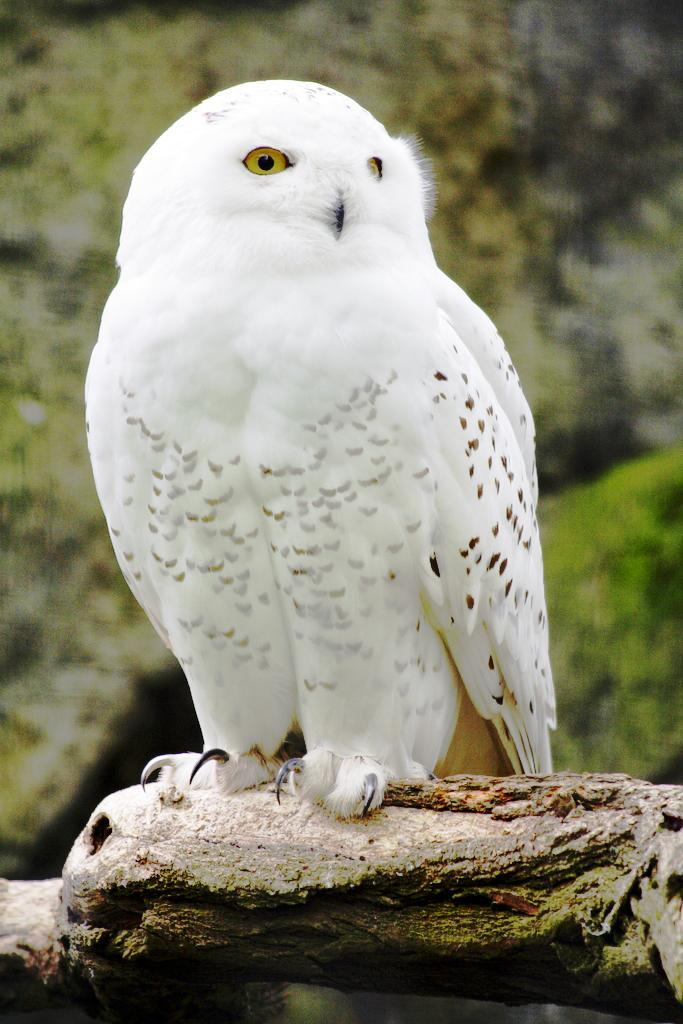Owl: (81, 72, 562, 823)
